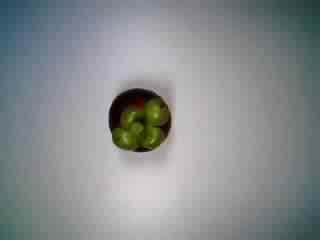mangosteen: (105, 82, 171, 153)
